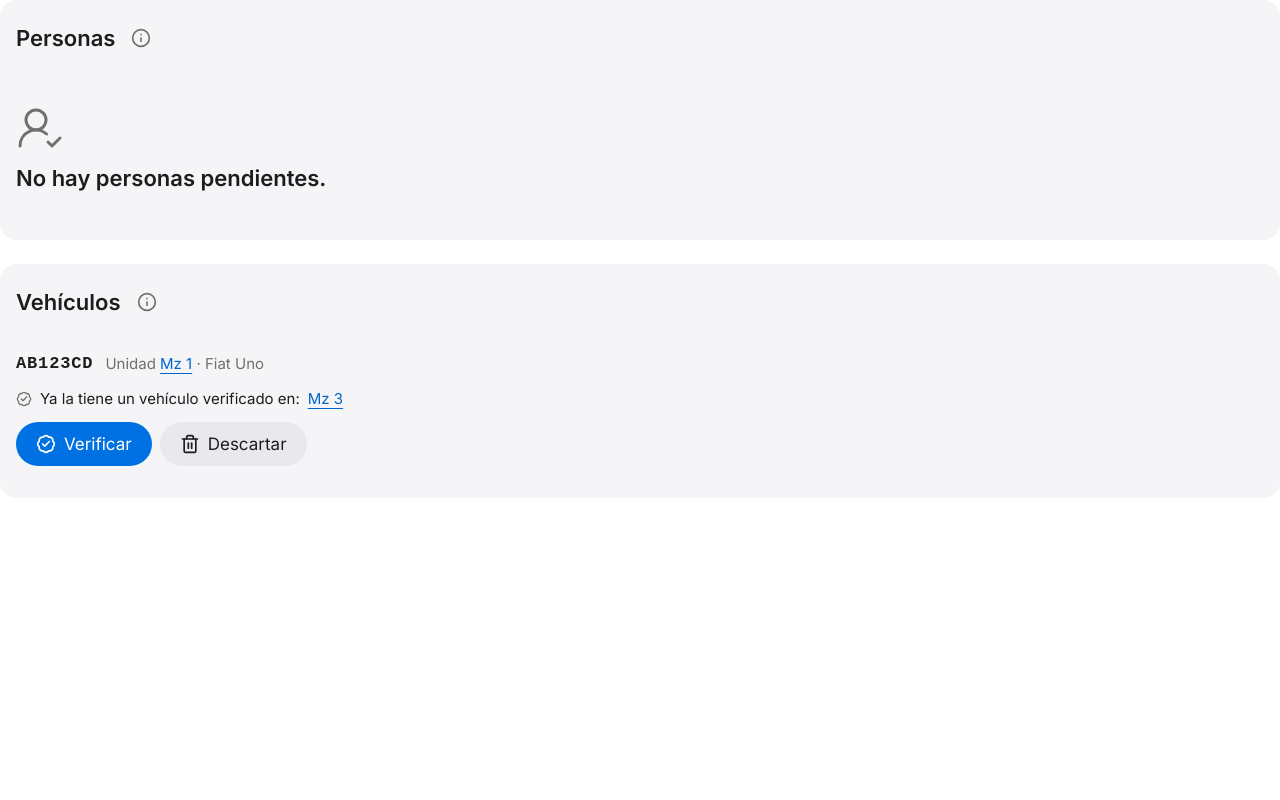
Test case: VerificationLists › verifies or discards a plate claim
This screenshot has width=1280, height=800.
What coordinates should you click on to do the following:
click the button with aria-label "Verificar la patente AB123CD"
I would click on:
 (84, 444)
Its box is [16,422,152,466].
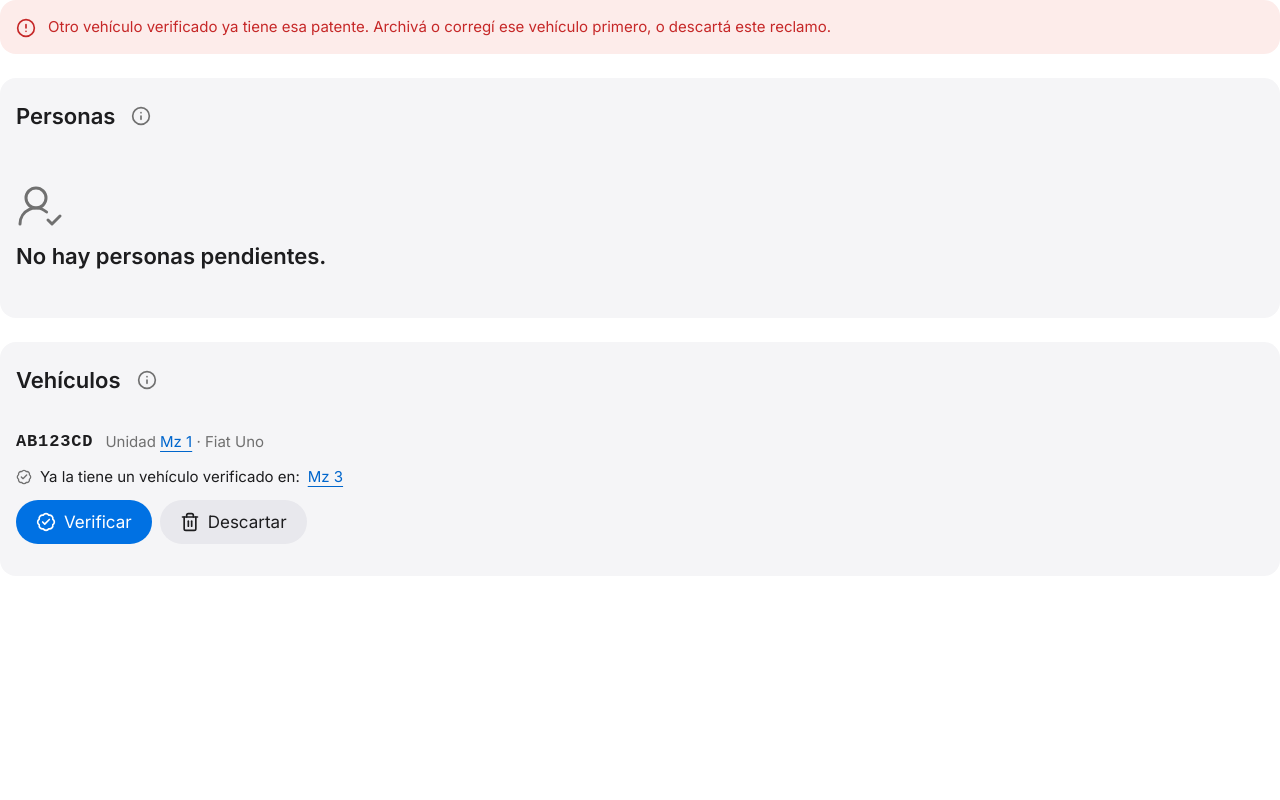
Expected: the text "Otro vehículo verificado ya tiene esa patente" is shown, [48,17,831,36]
What coordinates should you click on to do the following:
click the button with aria-label "Descartar el reclamo de la patente AB123CD"
I would click on:
 (233, 522)
Its box is [160,500,306,544].
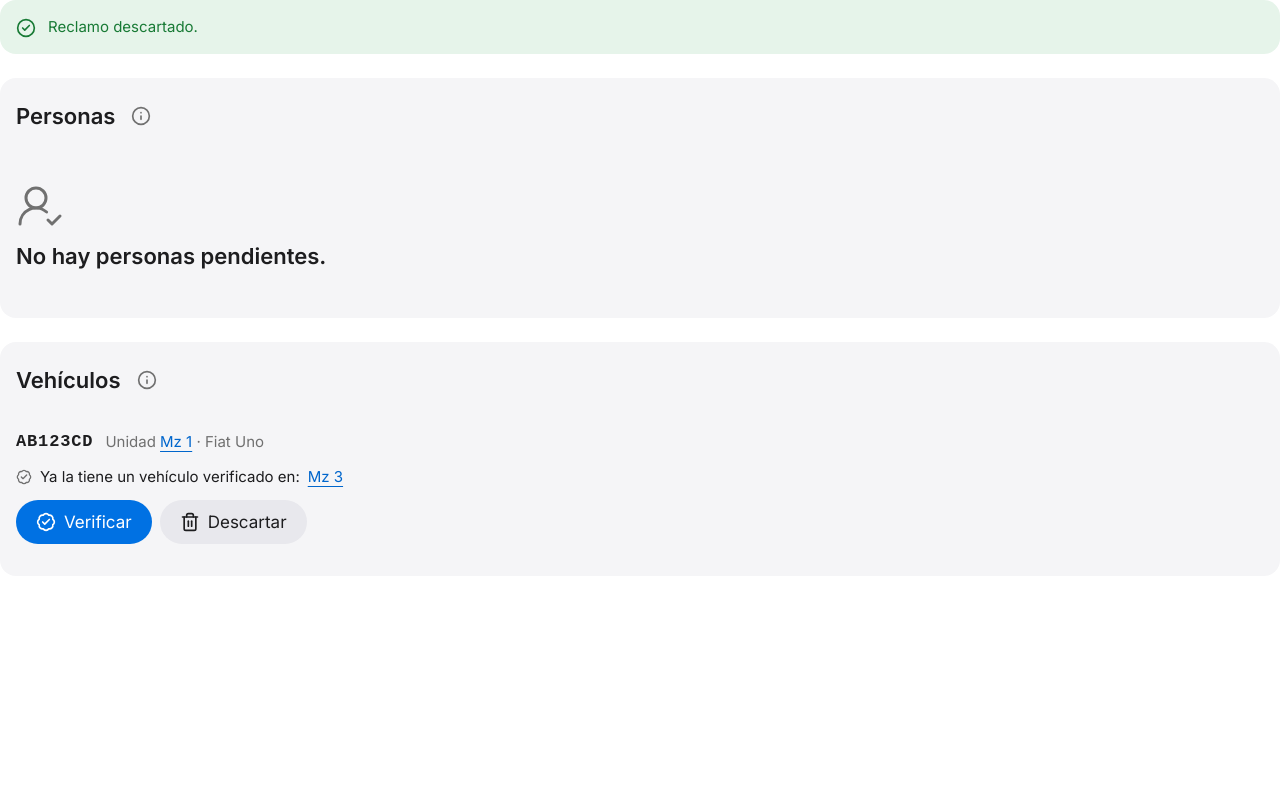
Expected: the text "Reclamo descartado." is shown, [48,16,198,38]
